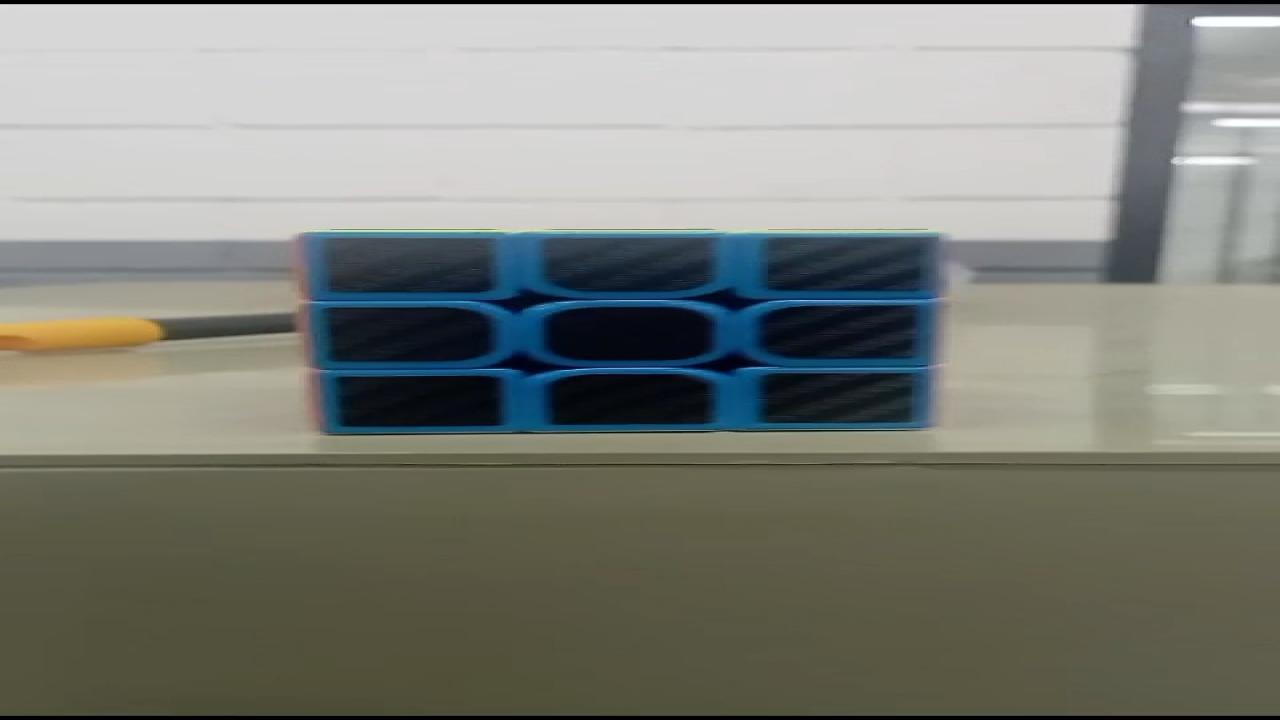Cube: (291, 227, 949, 435)
